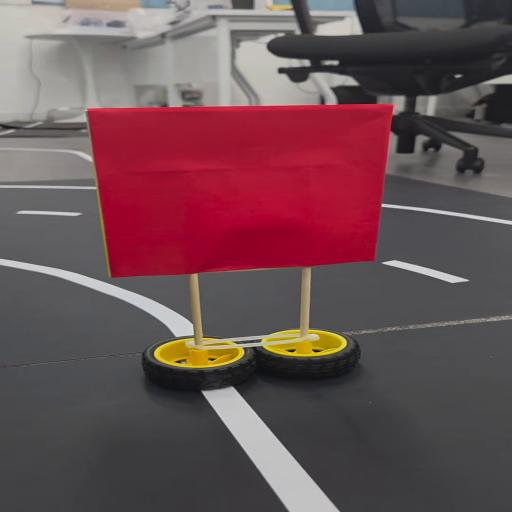Sign_A: (92, 102, 392, 390)
